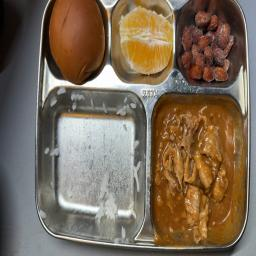100_beef: (156, 101, 237, 240)
100_bread: (52, 0, 106, 83)
100_nuts: (178, 12, 232, 85)
100_orange: (117, 4, 177, 78)
empty: (42, 92, 143, 238)
